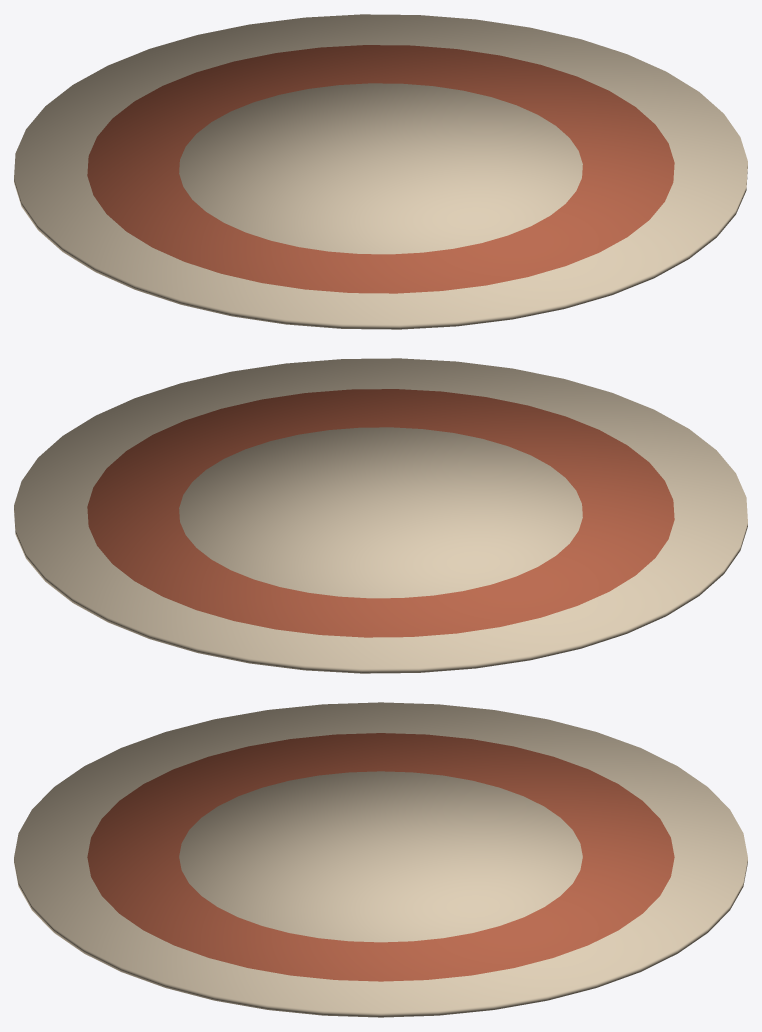
The model's file is i_rug_2.glb.
The picture shows the model from 3 angles, top to bottom: view 1: azimuth 30°, elevation 25°; view 2: azimuth 150°, elevation 25°; view 3: azimuth 270°, elevation 25°; orthographic projection.
Parts seen in each view (by area): view 1: o, o.001, o.002; view 2: o, o.001, o.002; view 3: o, o.001, o.002.
Part boxes in pixels (x1=…): o: x1=14, y1=14, x2=747, y2=329; o.001: x1=87, y1=45, x2=674, y2=293; o.002: x1=179, y1=83, x2=582, y2=254; o: x1=14, y1=358, x2=747, y2=673; o.001: x1=87, y1=389, x2=674, y2=637; o.002: x1=179, y1=427, x2=582, y2=598; o: x1=14, y1=702, x2=747, y2=1017; o.001: x1=87, y1=733, x2=674, y2=981; o.002: x1=179, y1=771, x2=582, y2=942.
Bounding box in the file's own units: 1.6 × 0.014 × 1.6.
